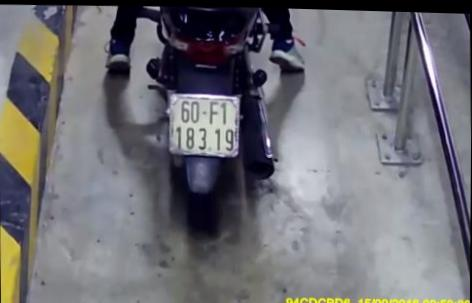LP: (167, 88, 242, 159)
